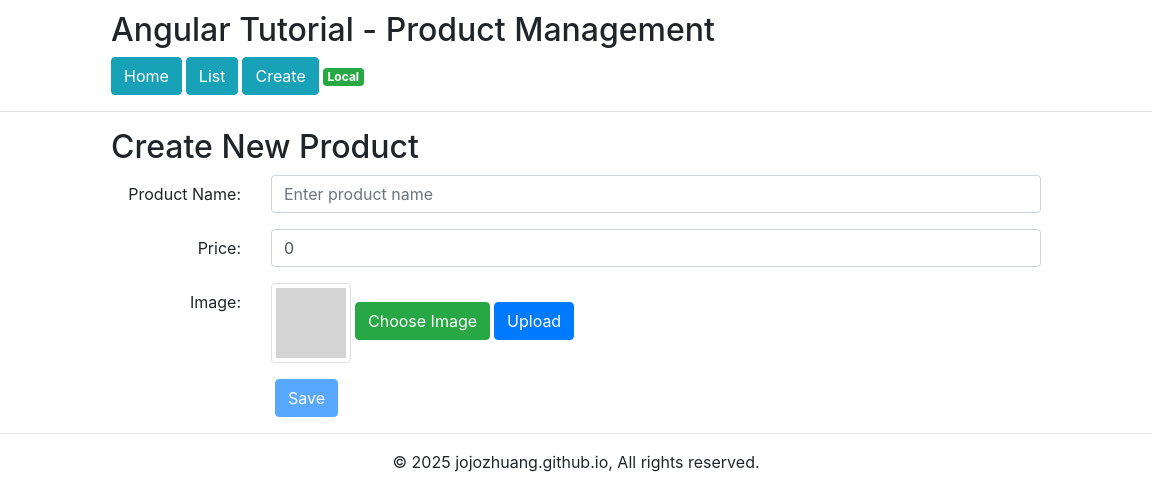
Product Add › should navigate to product list page
This screenshot has width=1152, height=489.
Click the button to "products" at [213, 76], box 186,57 -> 239,95
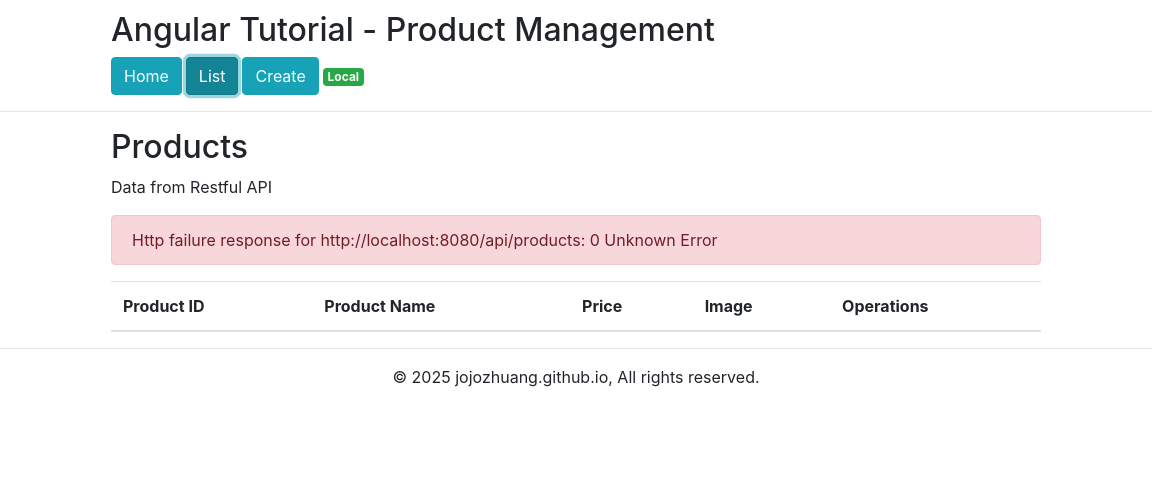
expect the heading "Products" is shown: met, box 111,127 -> 248,166
